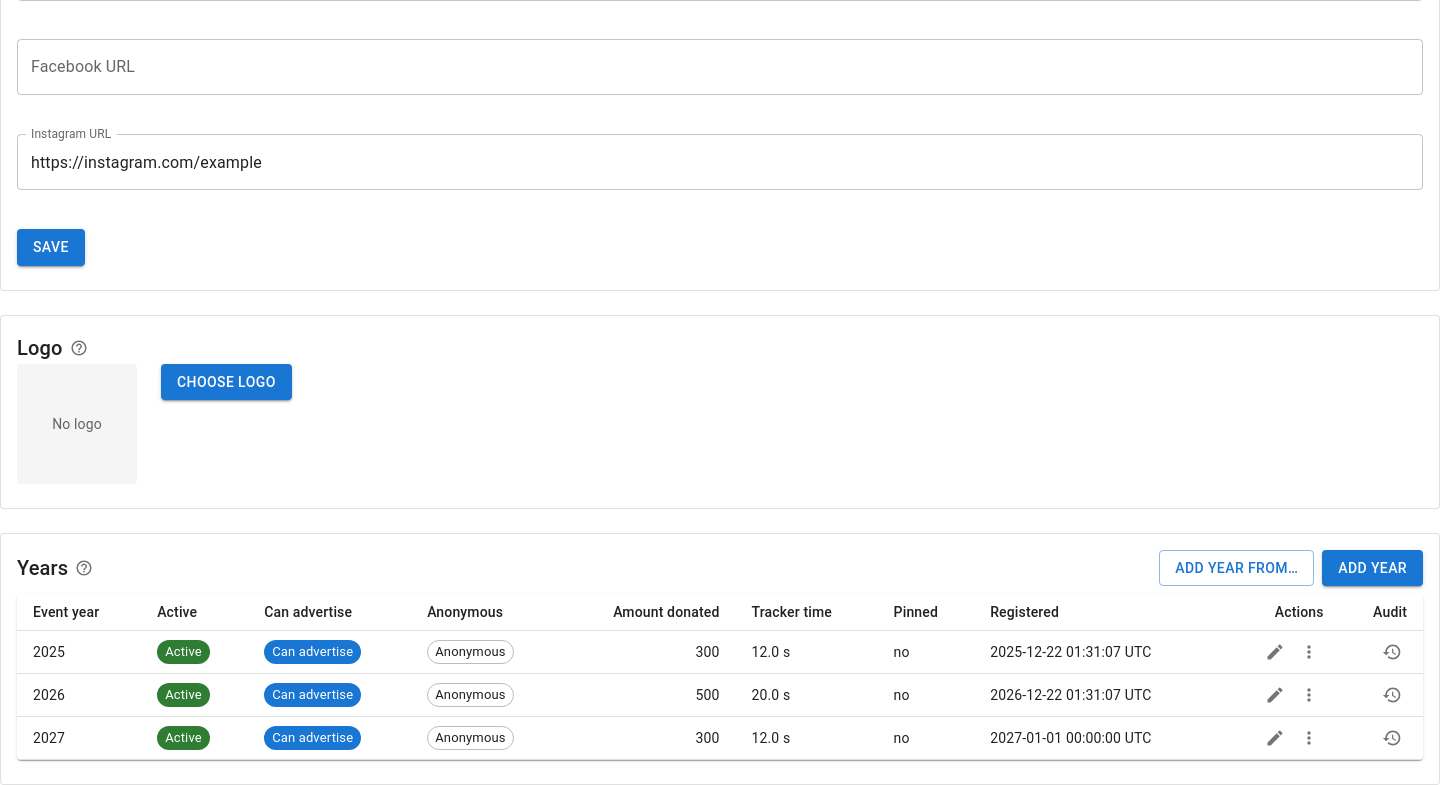
Test: SponsorDetail: add year from… › POSTs copy-from for the source year picked and the target-year prompt, then opens SponsorYearDialog on the new row
(page scrolled)
Click the button "Add year from…" at [1237, 568], box [1159,550,1314,586]
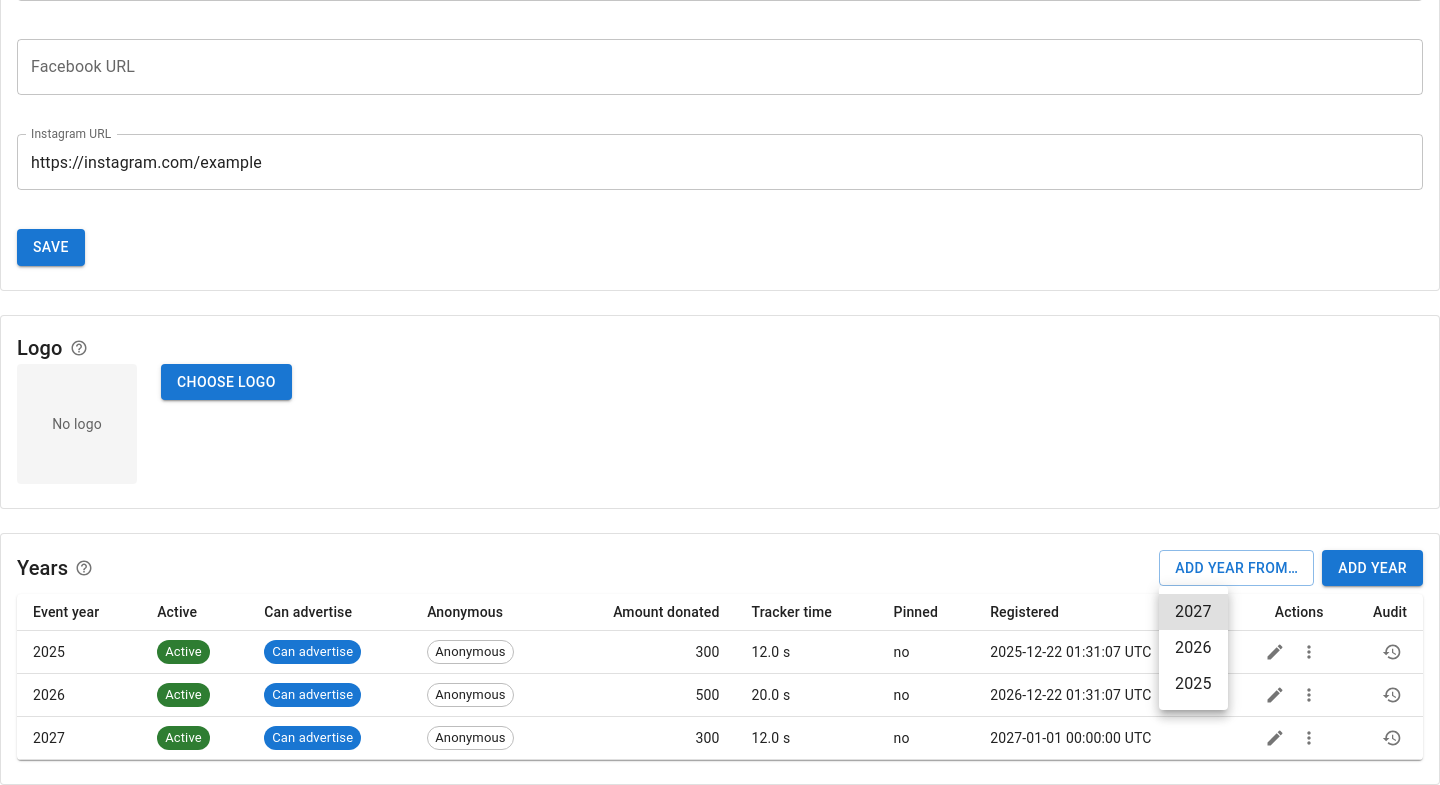
Click the menu item "2025" at [1193, 684], box [1175,674,1212,693]
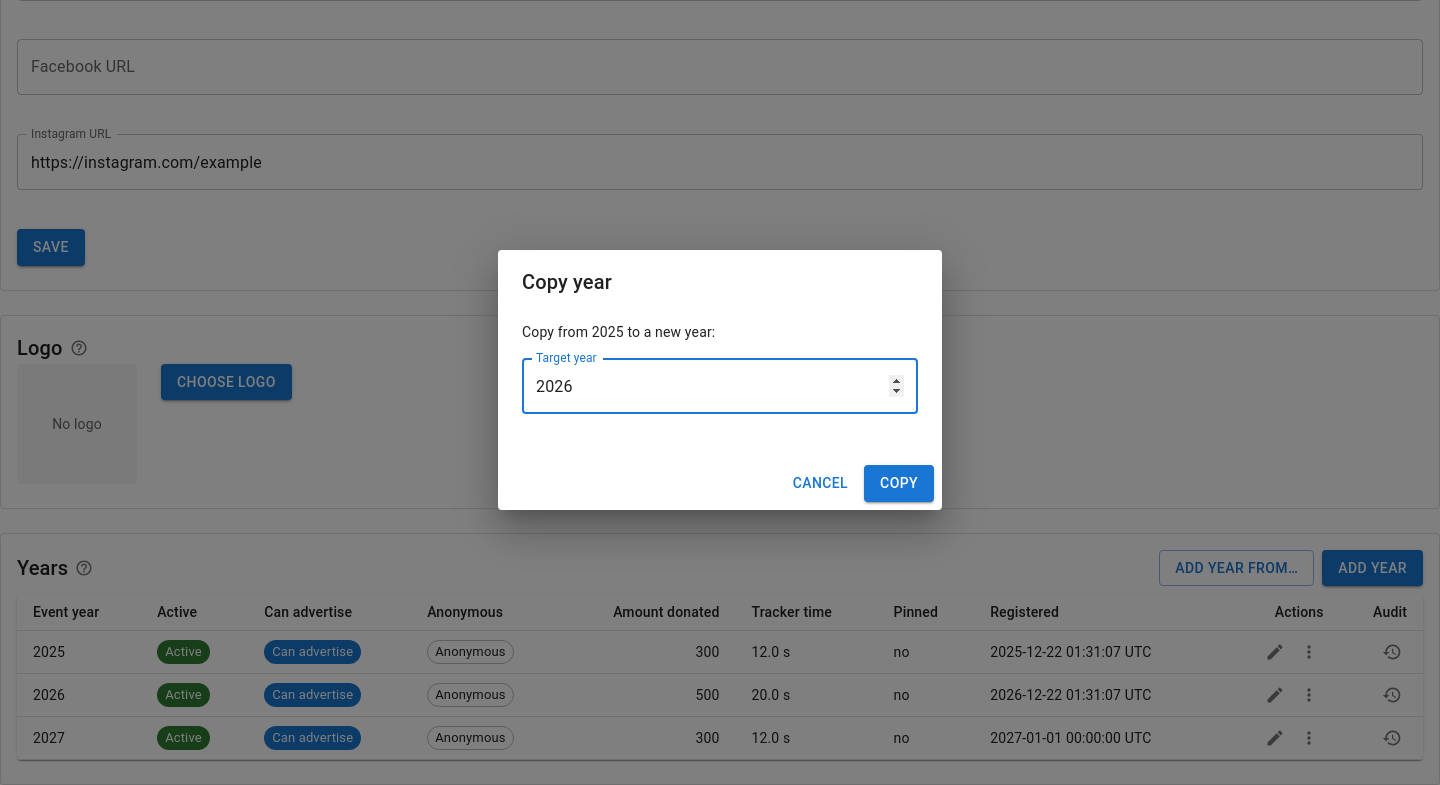
Replace the text in the number field labelled "Target year" with "2027" at [720, 386], box [522,358,918,414]
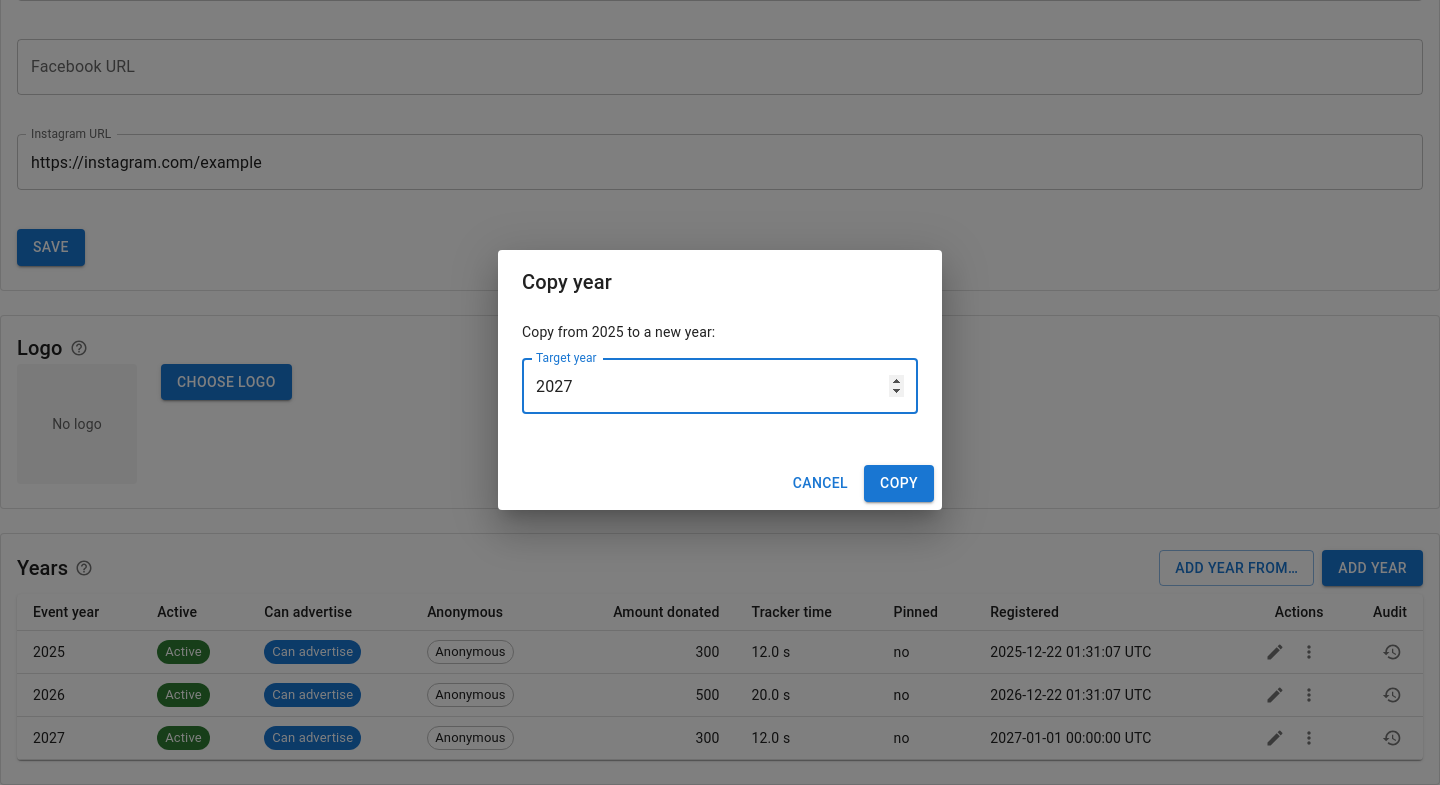
Click the button "Copy" at [899, 483], box [864,465,934,502]
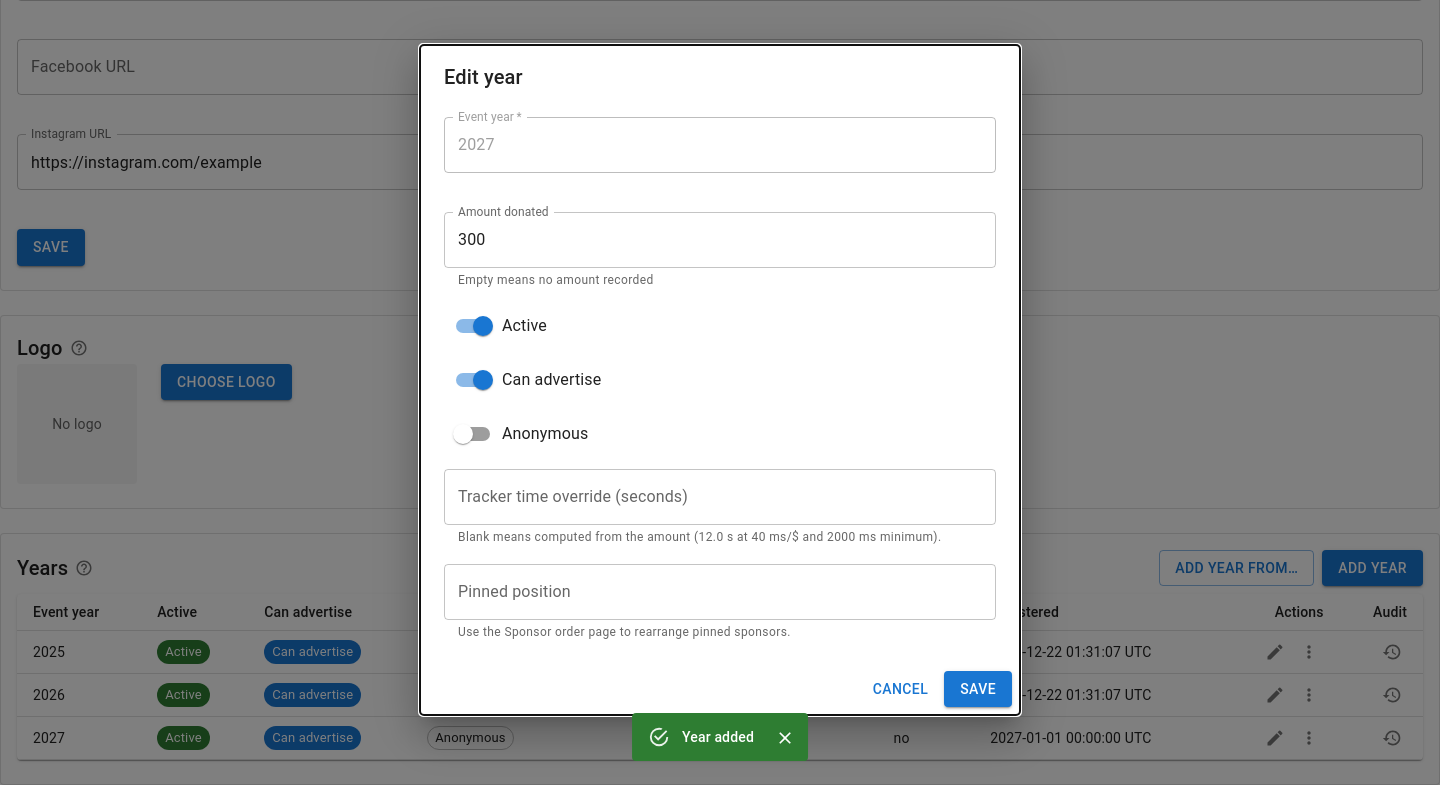
expect the dialog "Edit year" is shown: met, box [420,45,1020,715]
